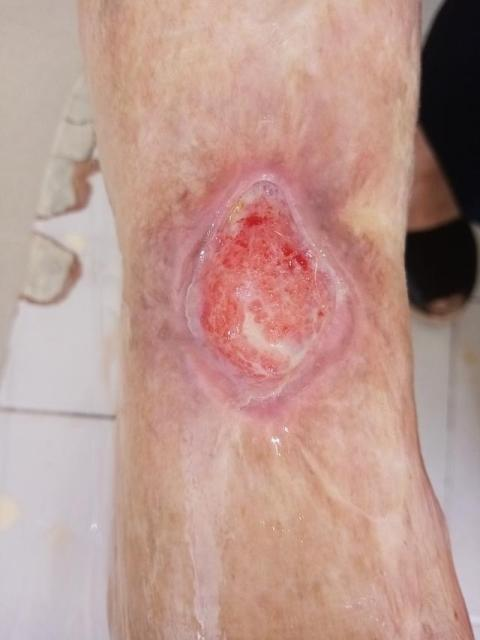wound: (183, 170, 354, 421)
